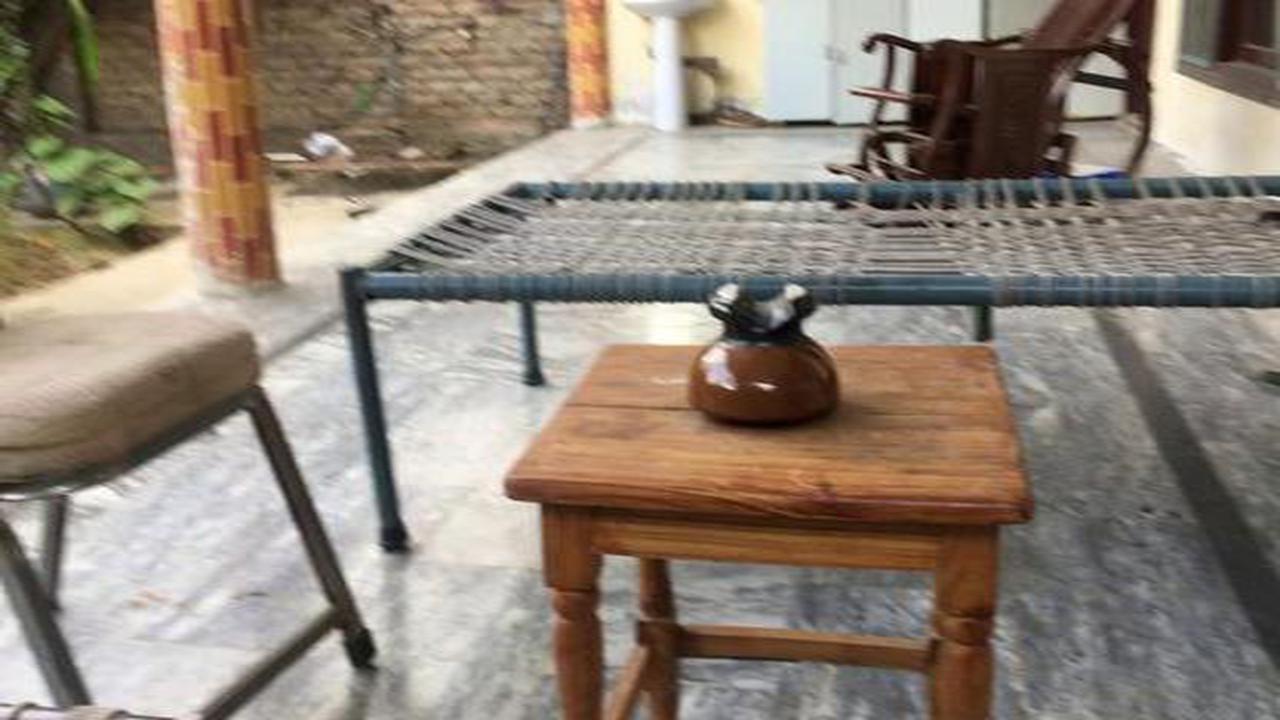insulator_pin: (671, 271, 862, 449)
